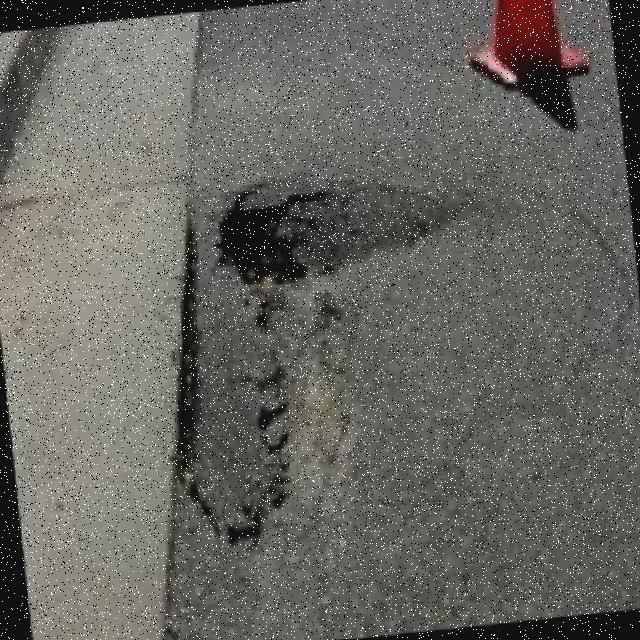Pothole: (221, 178, 468, 287)
